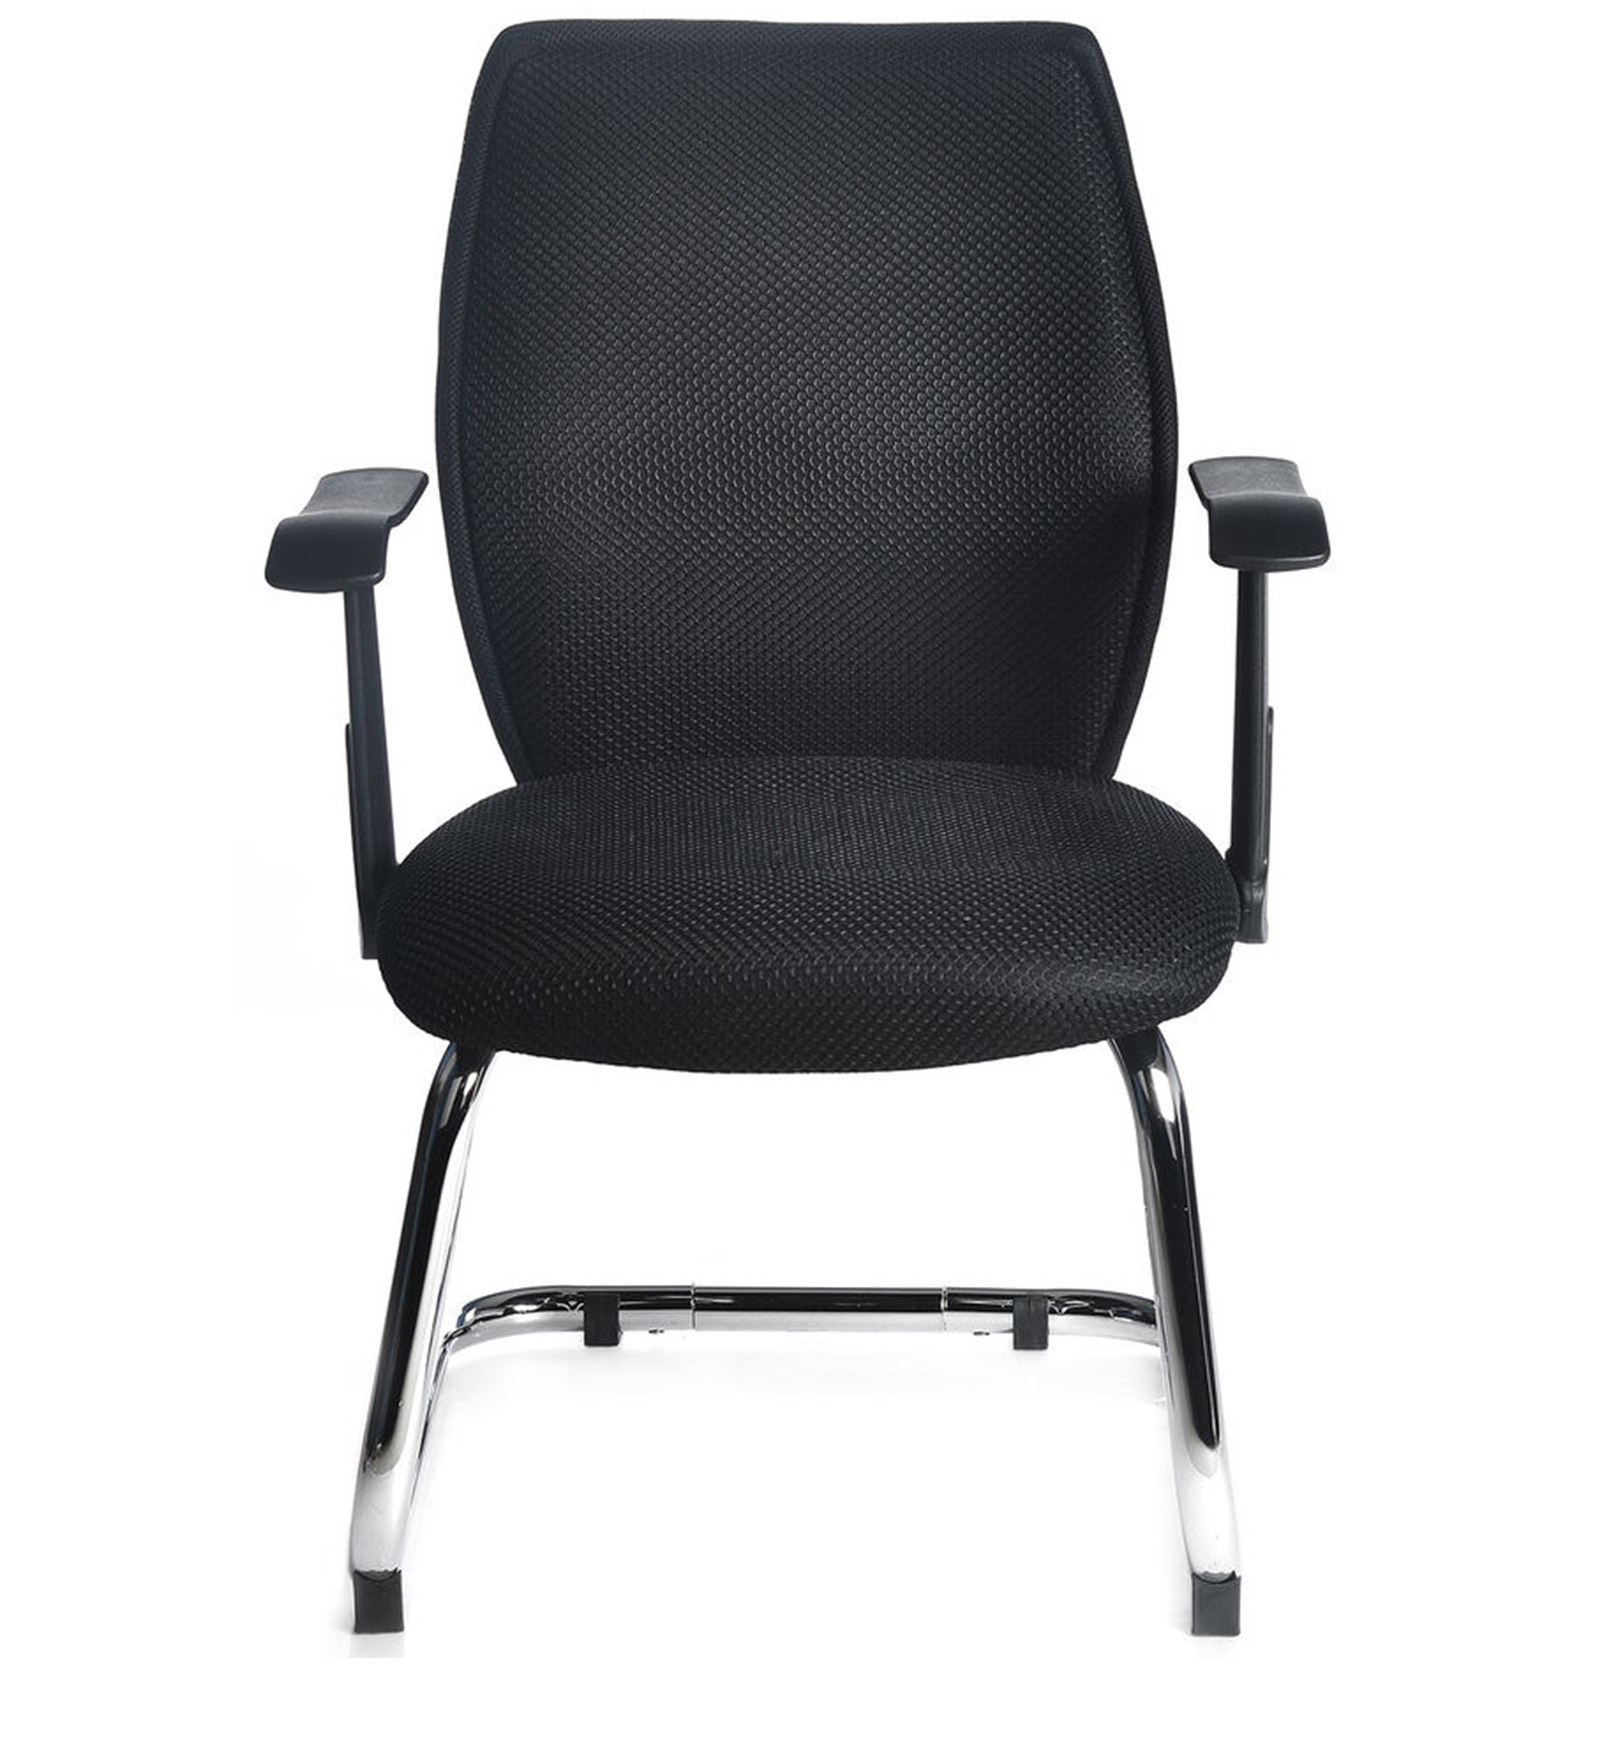Blaze Chair in Black Colour by Nilkamal: (247, 9, 1344, 1682)
